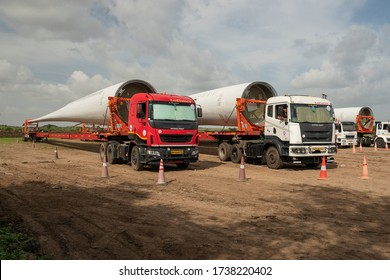truck: (217, 94, 341, 169), (99, 92, 204, 171), (334, 120, 358, 148), (372, 121, 390, 148)
